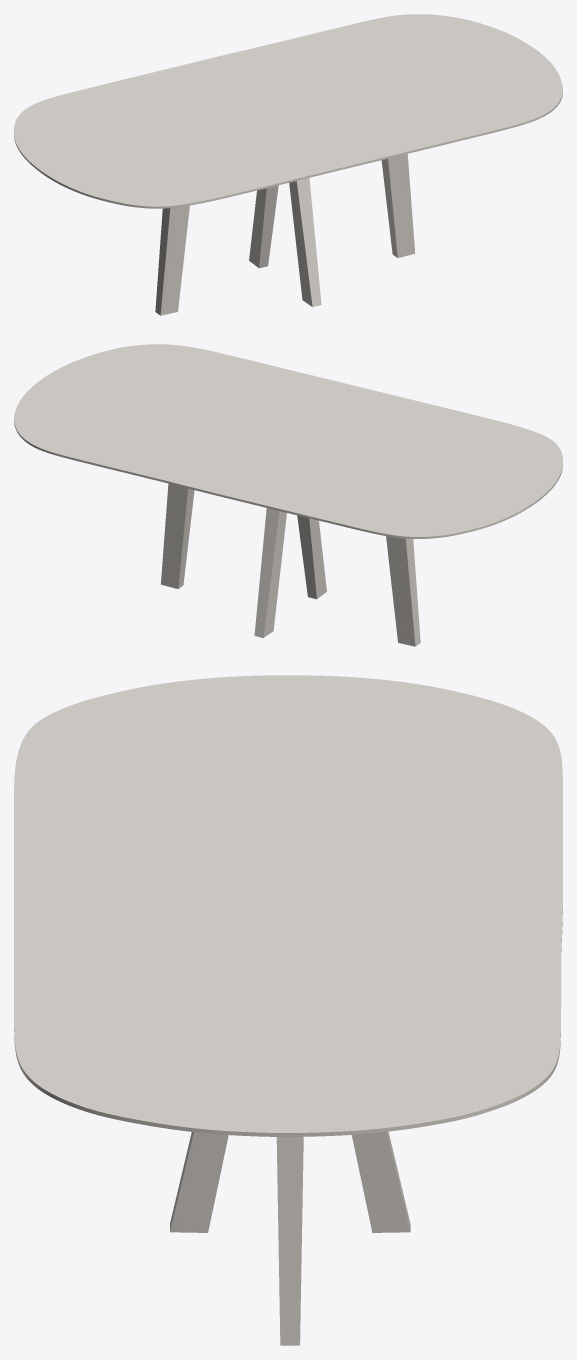
Rendered from pearlwhite_oval_facet_searwalnut.glb.
3 renders of one model, top to bottom at view 1: azimuth 30°, elevation 25°; view 2: azimuth 150°, elevation 25°; view 3: azimuth 270°, elevation 25°, orthographic. The views are drawn at different scales.
Parts seen in each view (by area): view 1: facet_oval, searwalnut; view 2: facet_oval, searwalnut; view 3: facet_oval, searwalnut.
Boxes of the visible parts, x1,y1,x2,y2 form: facet_oval: [14, 14, 562, 208]; searwalnut: [155, 154, 415, 315]; facet_oval: [14, 344, 562, 538]; searwalnut: [161, 483, 420, 646]; facet_oval: [14, 675, 562, 1136]; searwalnut: [170, 1131, 410, 1345].
Size of the model in its own units: 7.5 by 2.5 by 3.8.
1 material, 1 textured.
